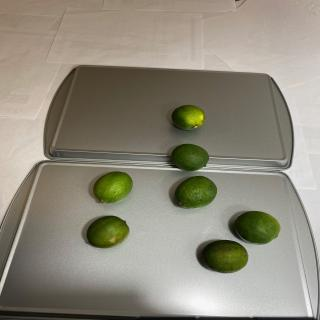Lemon: (233, 210, 280, 245), (201, 240, 248, 274), (175, 175, 218, 209), (92, 171, 133, 203), (171, 143, 209, 171), (171, 104, 206, 130)
